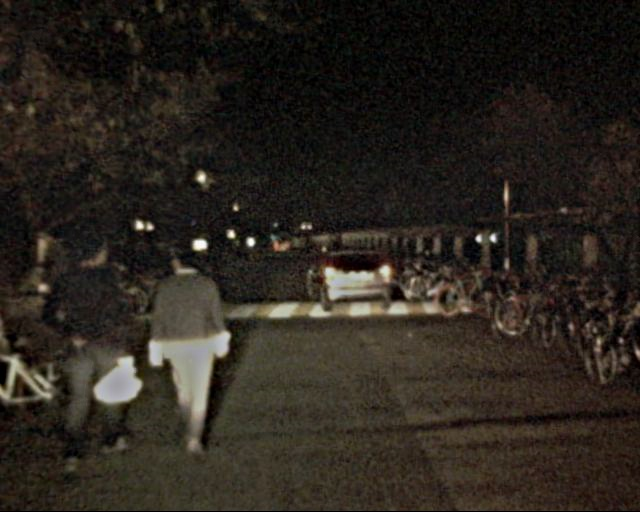person: (61, 222, 128, 462), (161, 229, 233, 446)
